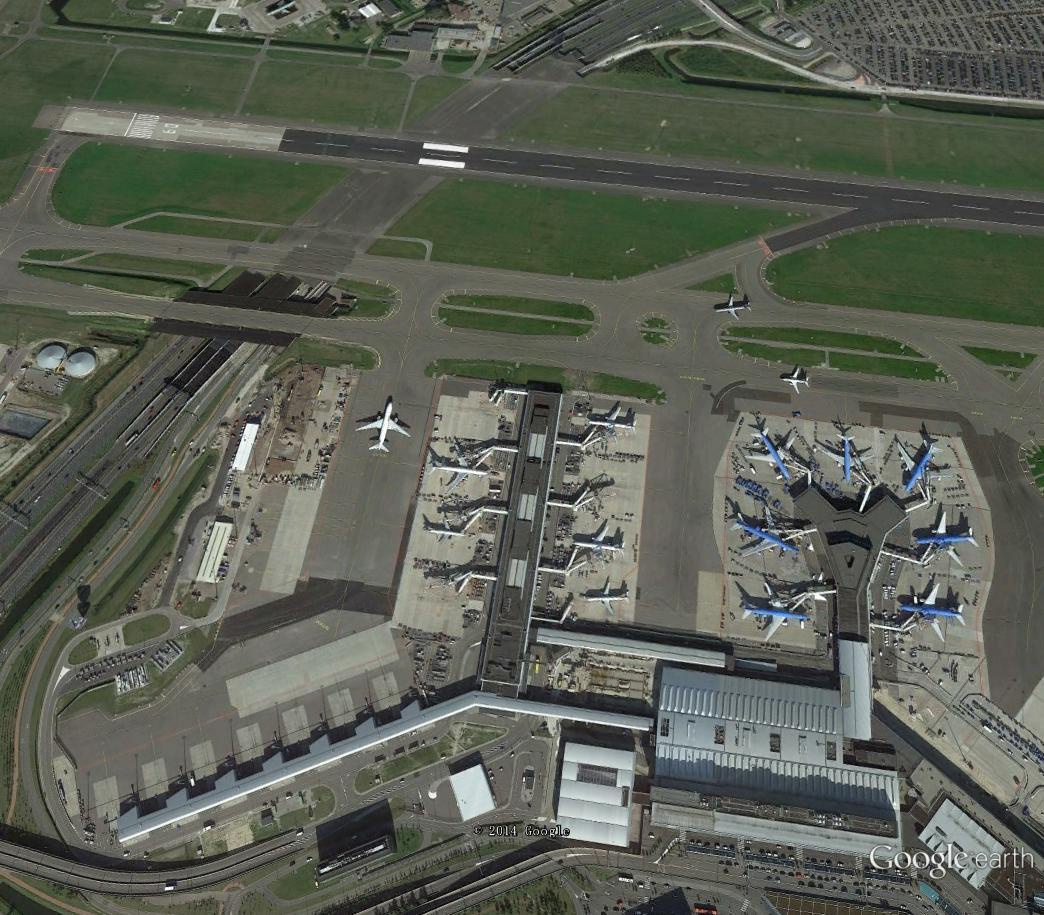aircraft: (733, 574, 814, 646), (896, 582, 969, 645), (729, 501, 804, 560), (912, 509, 982, 571), (894, 432, 955, 497), (351, 398, 416, 456), (427, 436, 492, 494), (813, 433, 879, 489), (742, 425, 799, 483), (572, 518, 628, 564), (580, 574, 634, 619), (585, 403, 639, 447), (423, 507, 475, 546), (712, 291, 756, 324), (775, 362, 816, 396)
